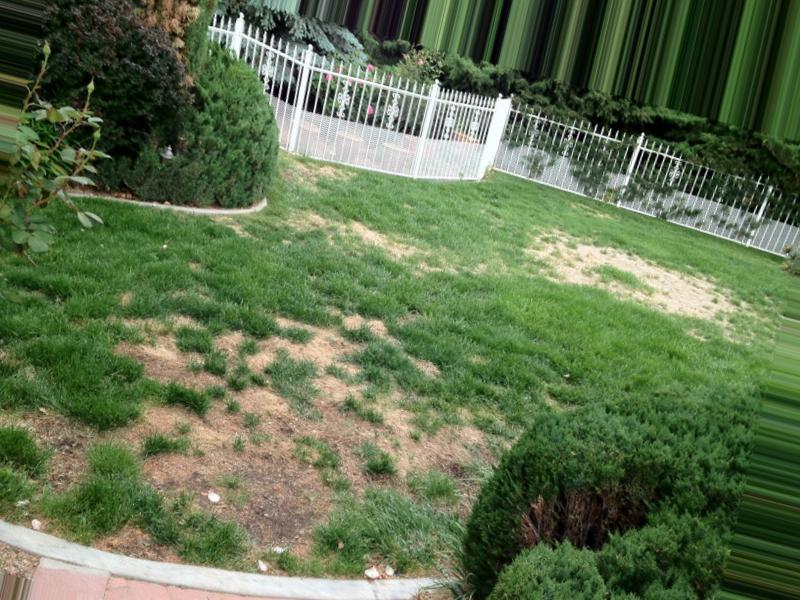patch: (253, 442, 342, 516), (222, 395, 325, 445), (384, 428, 456, 489), (178, 451, 243, 516), (669, 278, 695, 307), (343, 405, 374, 426), (300, 336, 324, 358), (380, 402, 407, 419), (147, 464, 166, 478), (618, 254, 640, 263)
